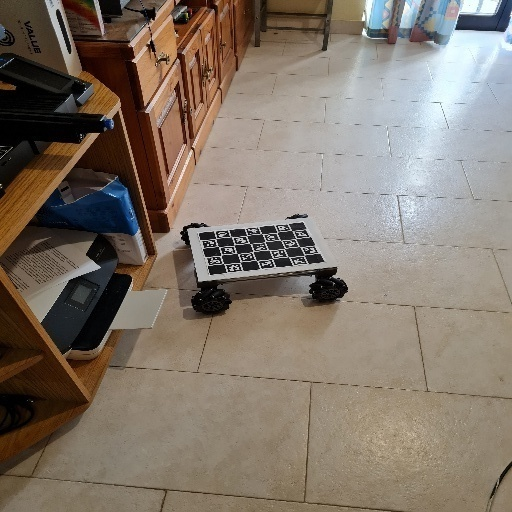Omniwheel: (178, 213, 350, 319)
